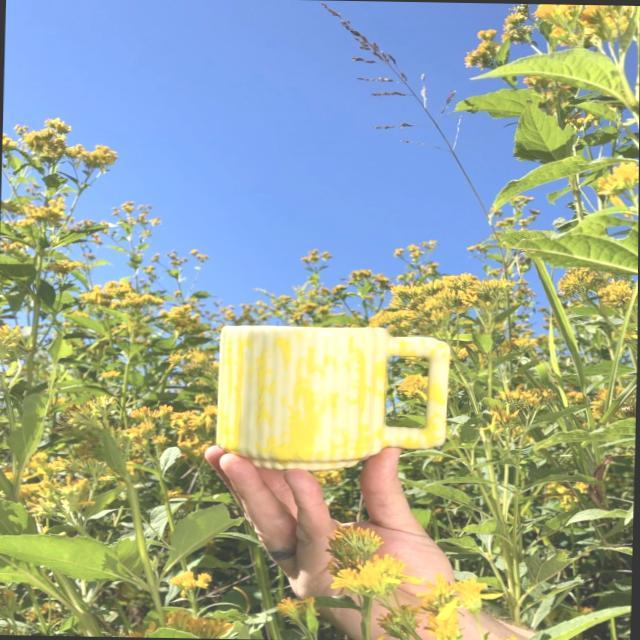cup: (172, 322, 448, 486)
